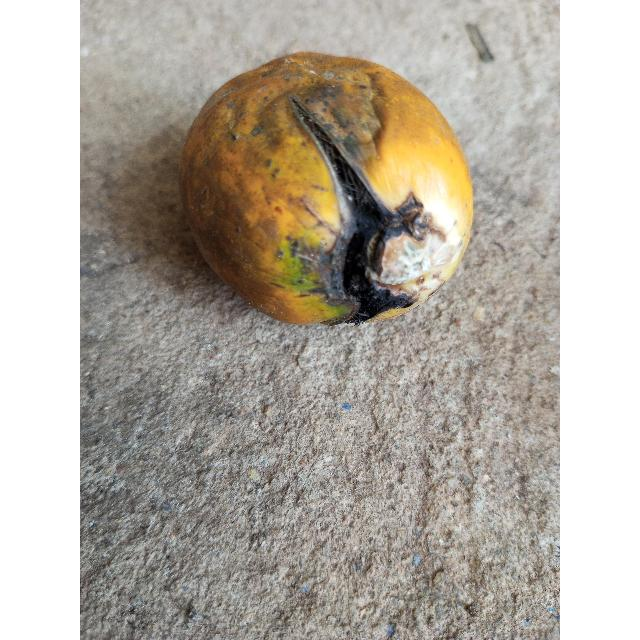damaged: (178, 52, 475, 327)
